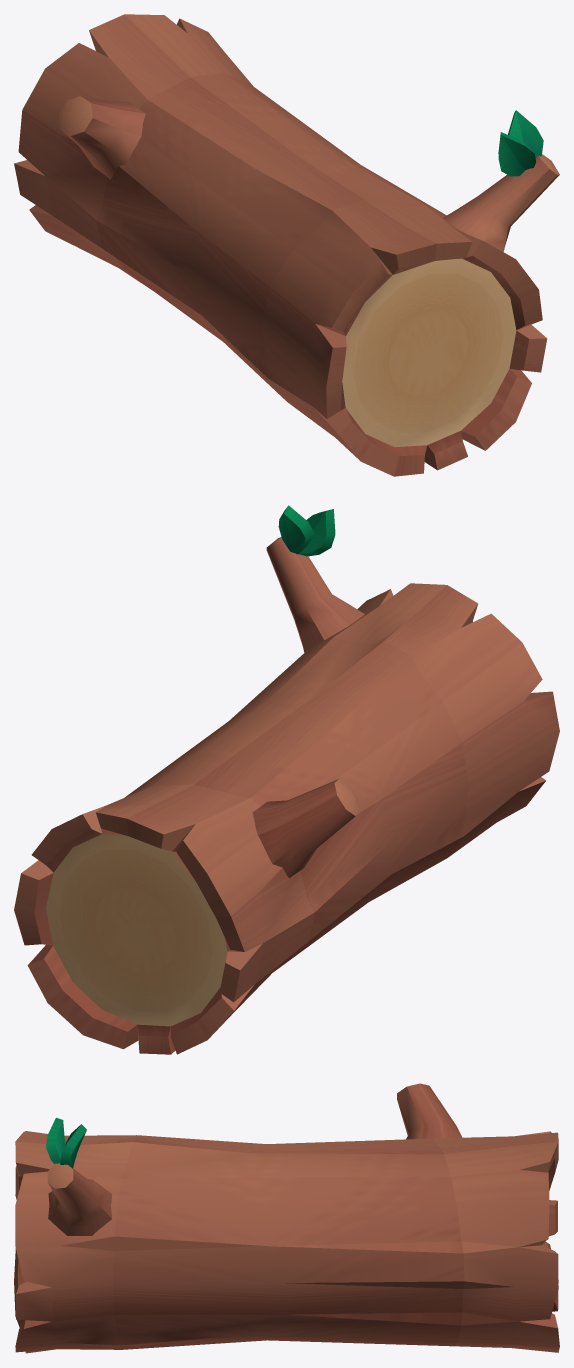
Rendered from Wood_Log_A.gltf.
3 views of the same model, one above another, from view 1: azimuth 30°, elevation 25°; view 2: azimuth 150°, elevation 25°; view 3: azimuth 270°, elevation 25° (orthographic). The views are drawn at different scales.
Parts seen in each view (by area): view 1: Wood_Log_A; view 2: Wood_Log_A; view 3: Wood_Log_A.
Part boxes in pixels (bbox=[...]): Wood_Log_A: bbox=[14, 14, 559, 476]; Wood_Log_A: bbox=[14, 505, 559, 1054]; Wood_Log_A: bbox=[14, 1083, 559, 1353].
Size of the model in its own units: 0.7214 by 0.7334 by 1.35.
Materials: 1 (1 with a texture image).
